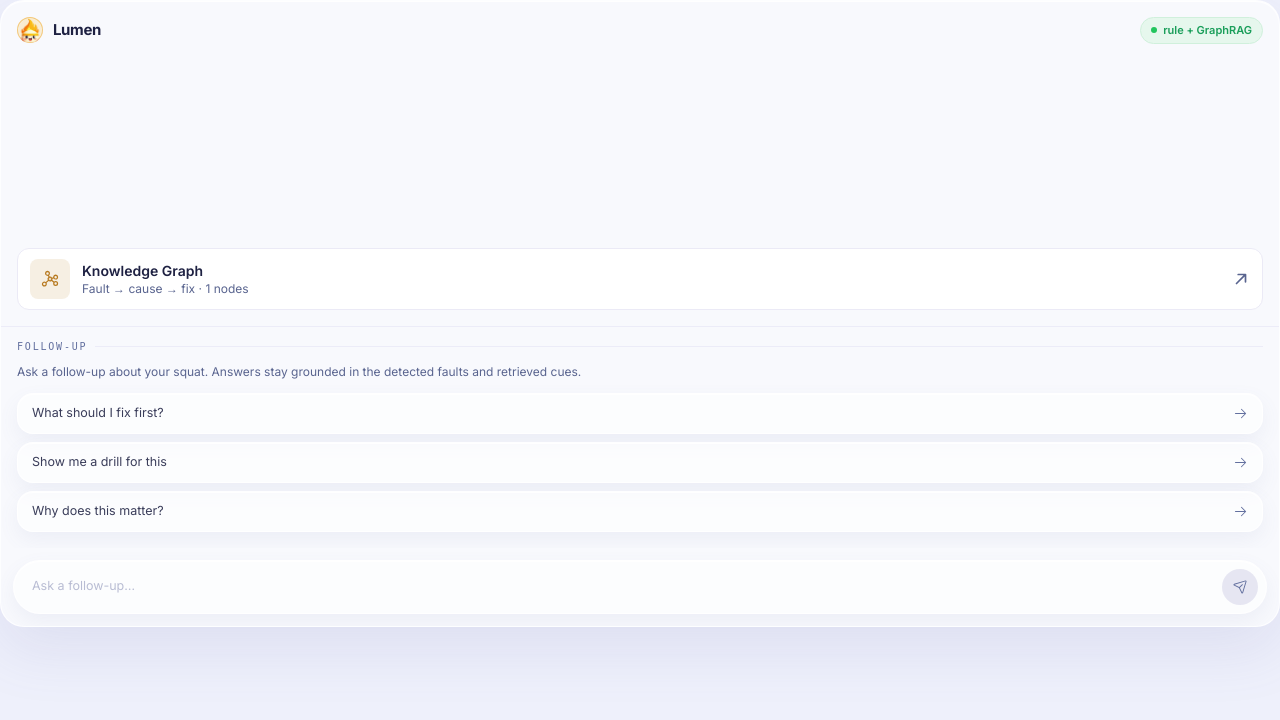
CoachTray — follow-up chat › scrolls again when the follow-up chips land (they arrive after the answer commits)
Type "hi" into the field with placeholder "Ask a follow-up…".
click(618, 586); type("hi")  # box [22,577,1214,596]
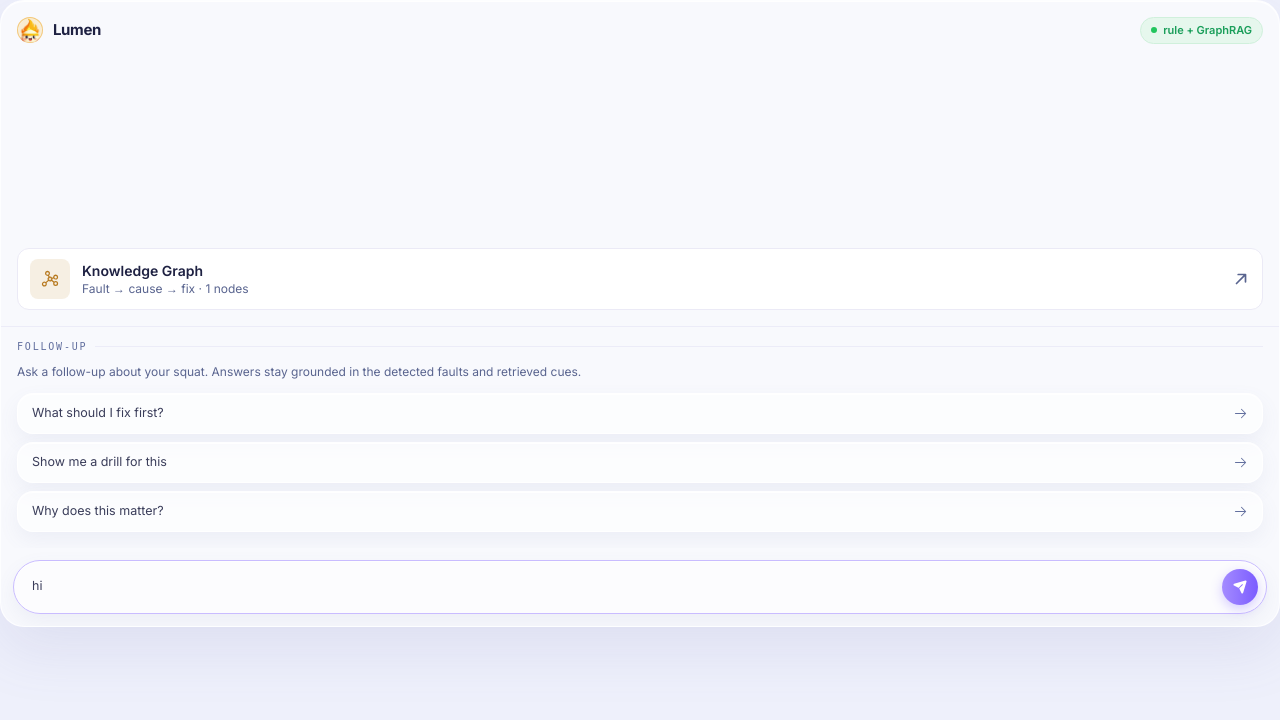
Click the button named "Send message".
click(1240, 586)  # box [1222,568,1258,604]
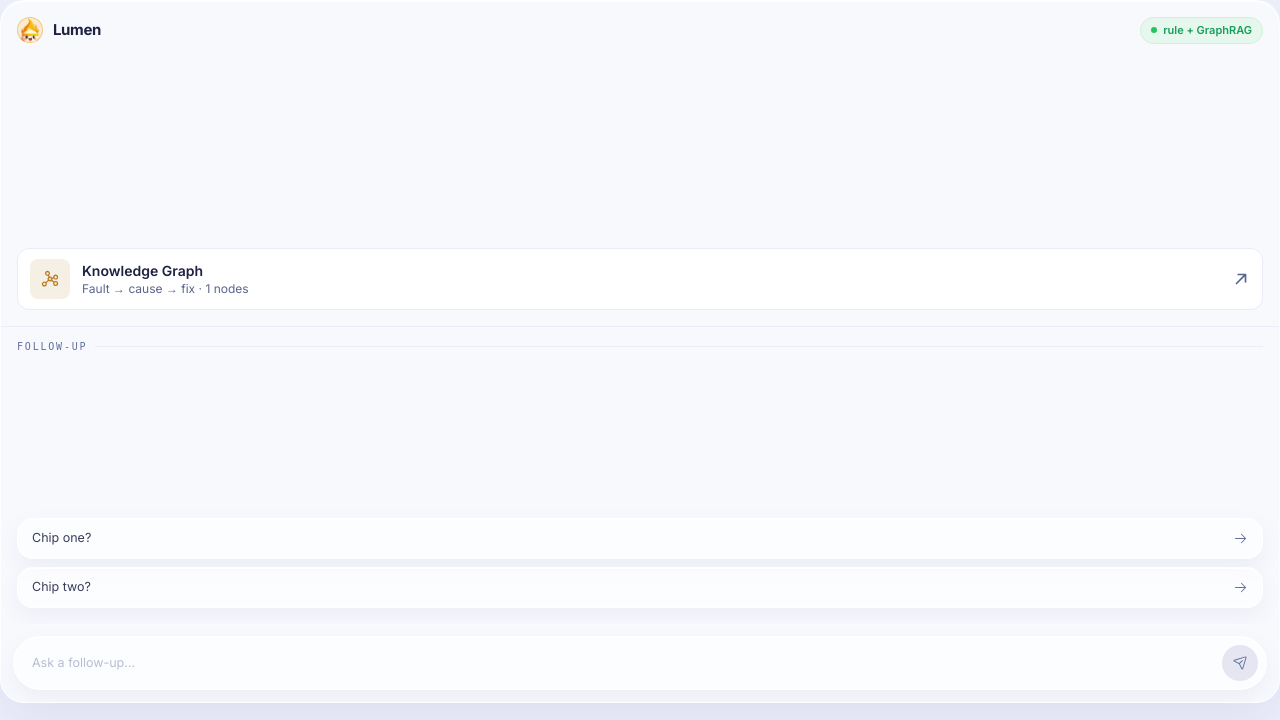
Expected: the button "Chip one?" is shown, [17,518,1263,559]
